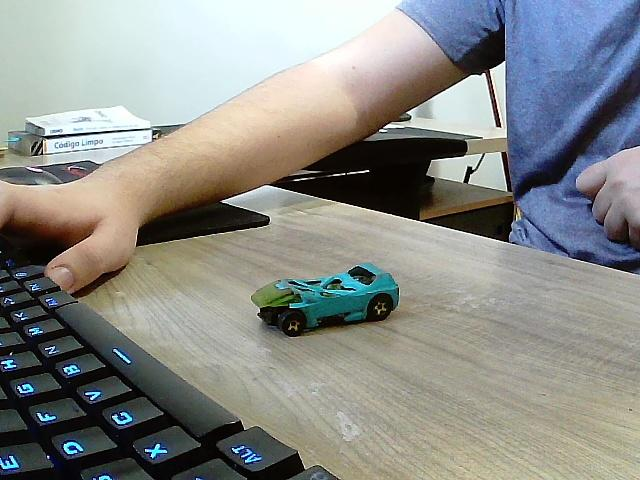Carro: (252, 265, 400, 338)
